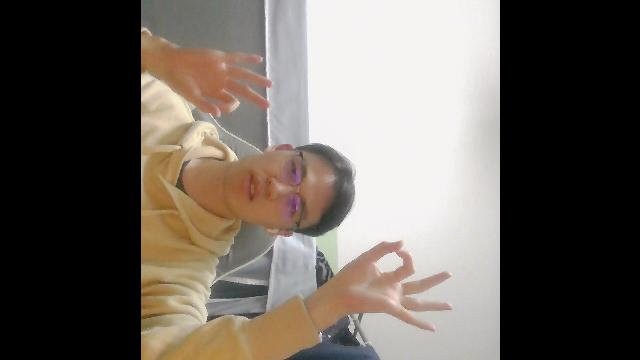ok: (324, 241, 457, 340), (158, 42, 275, 119)
